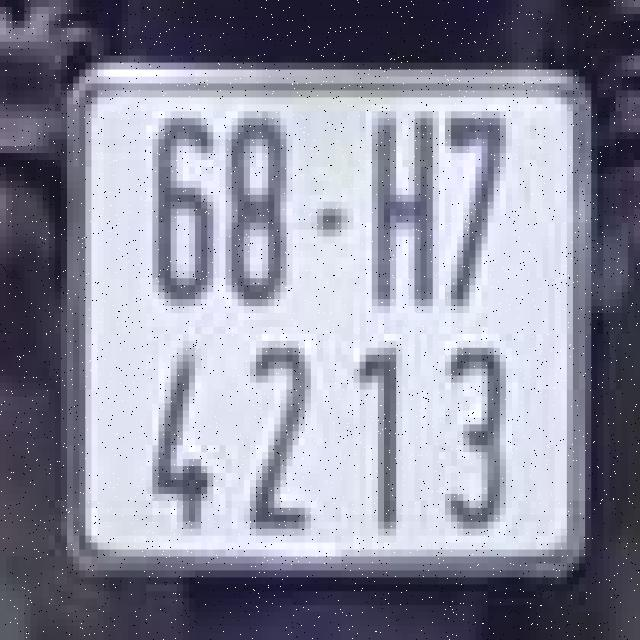1: (351, 341, 412, 549)
2: (241, 341, 320, 542)
3: (436, 344, 521, 532)
4: (140, 338, 220, 539)
6: (137, 108, 223, 309)
7: (448, 111, 509, 313)
8: (228, 108, 302, 309)
H: (363, 108, 442, 309)
